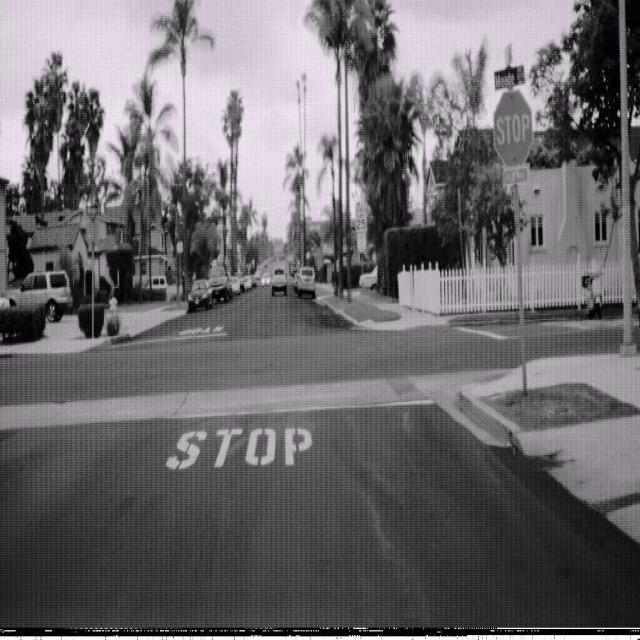stop_sign: (493, 88, 533, 168)
